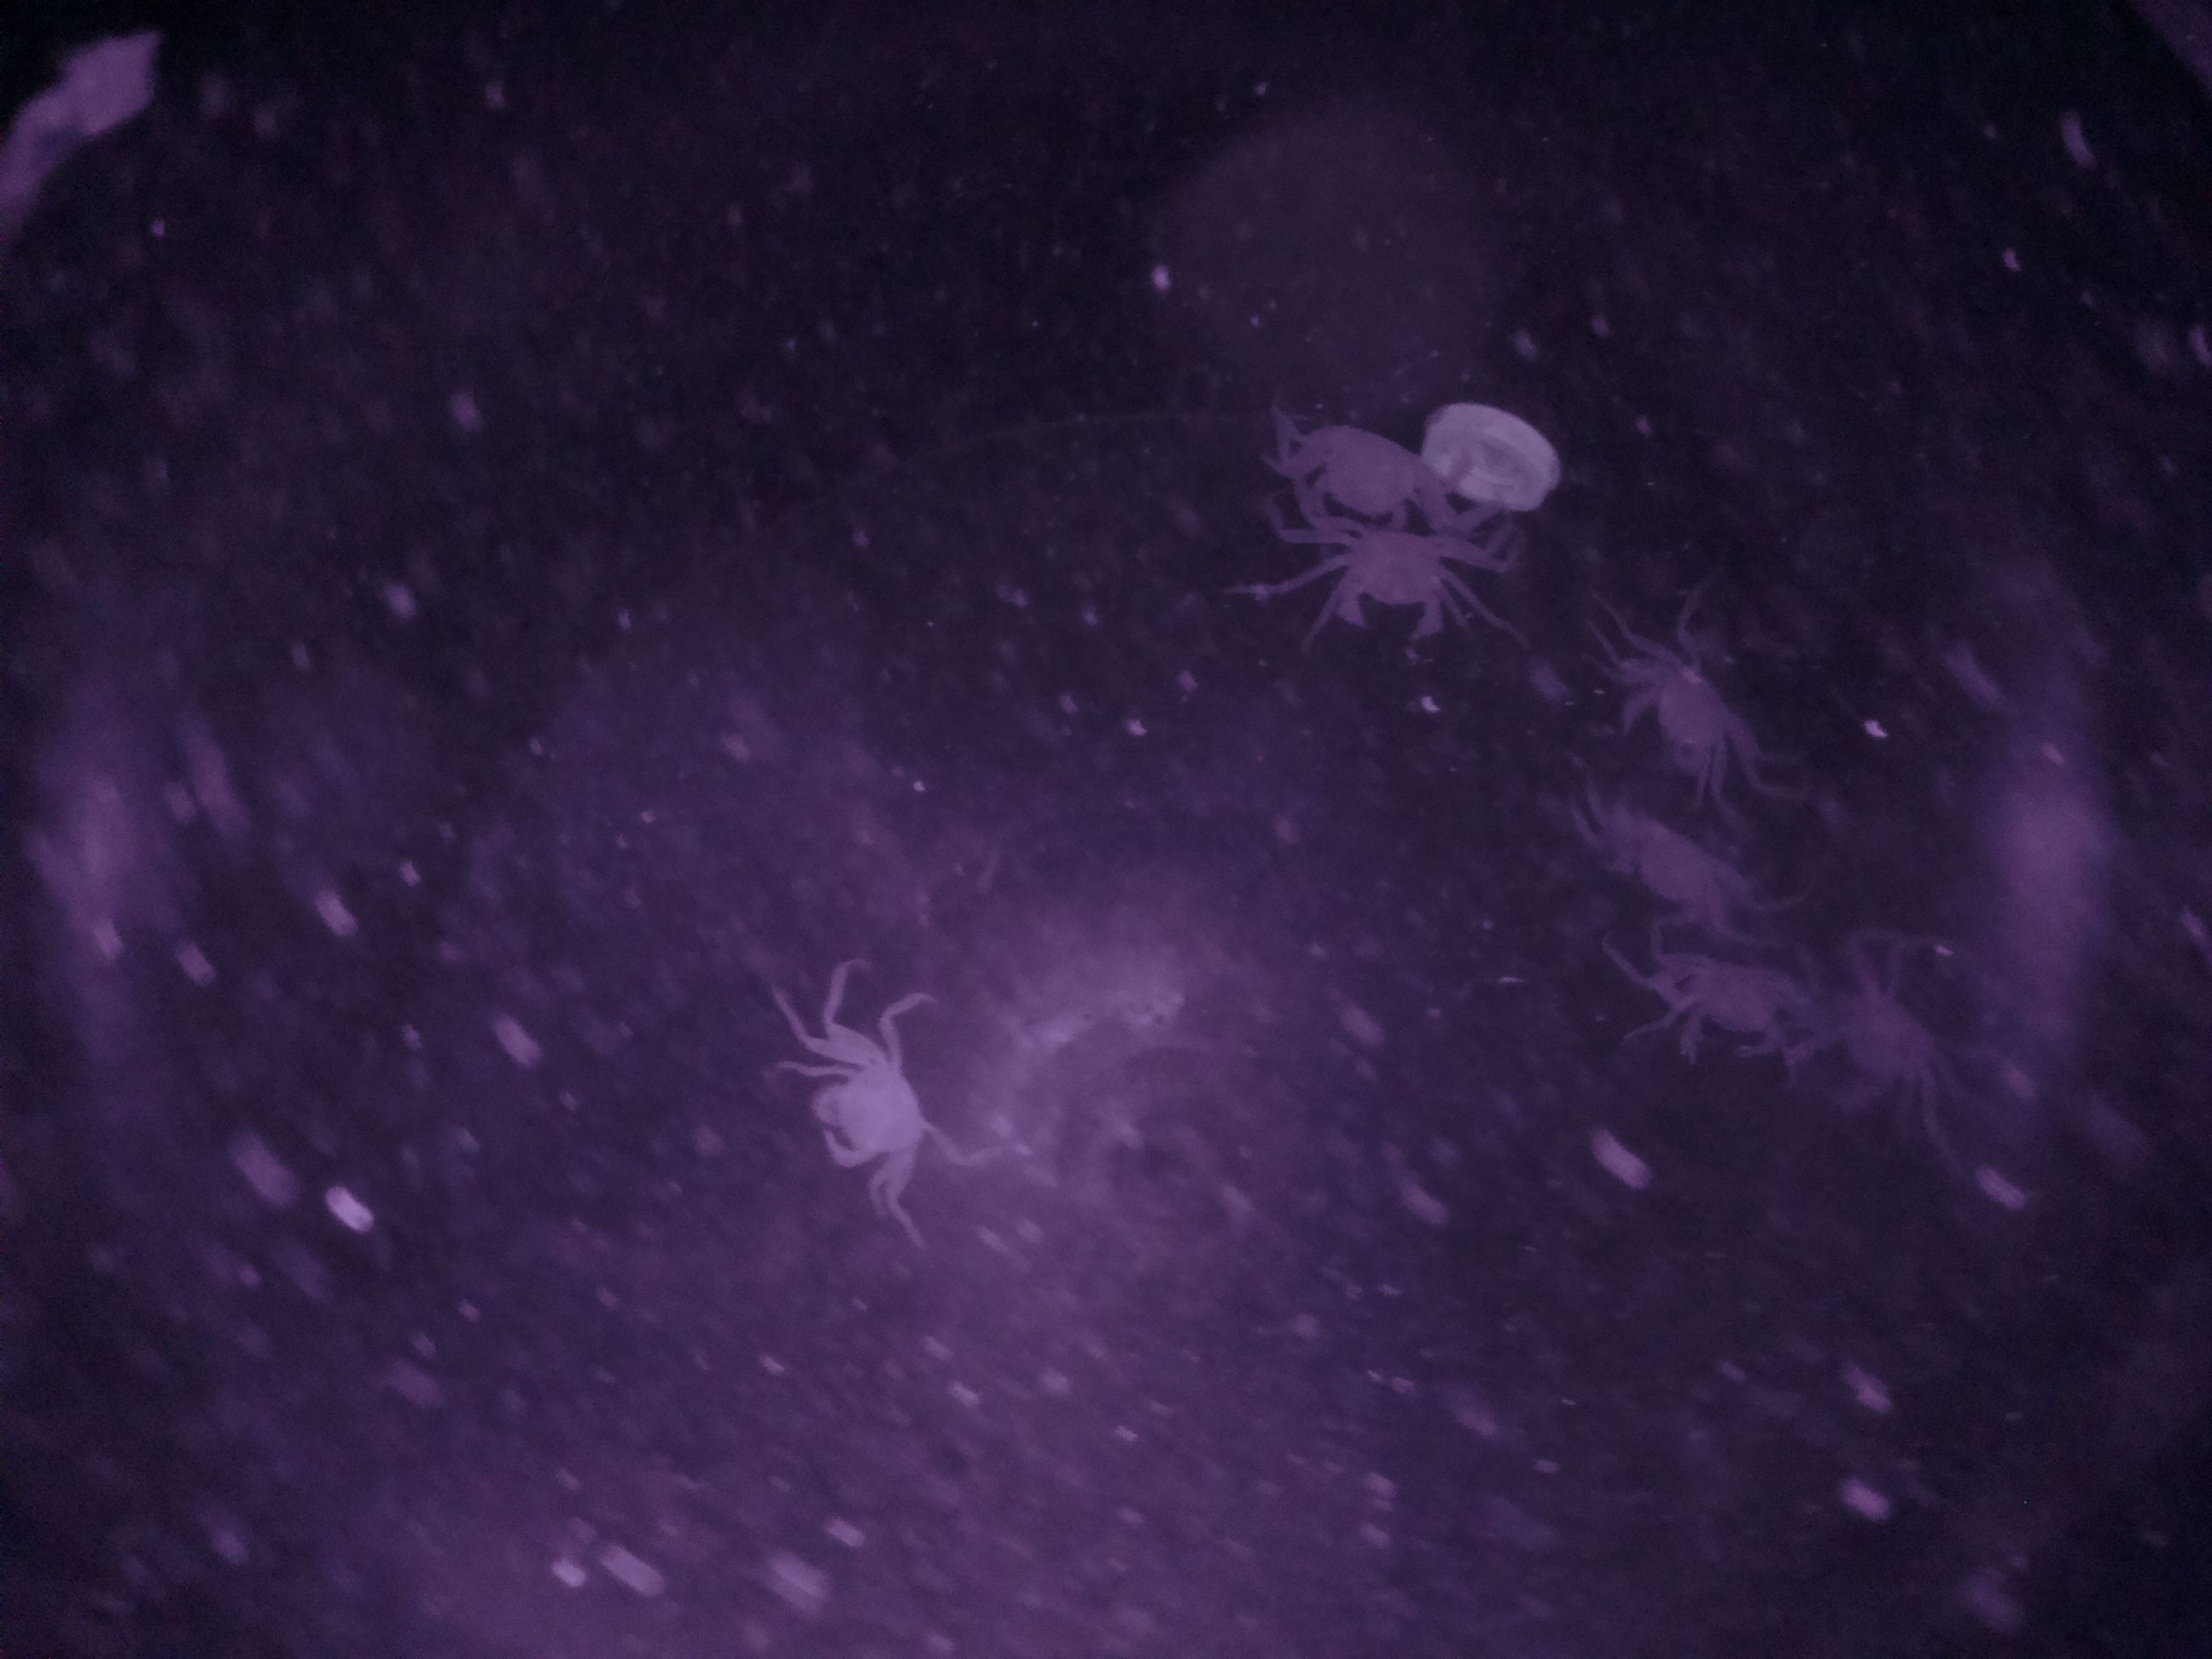Crab: (794, 997, 948, 1206), (1291, 511, 1482, 660)
